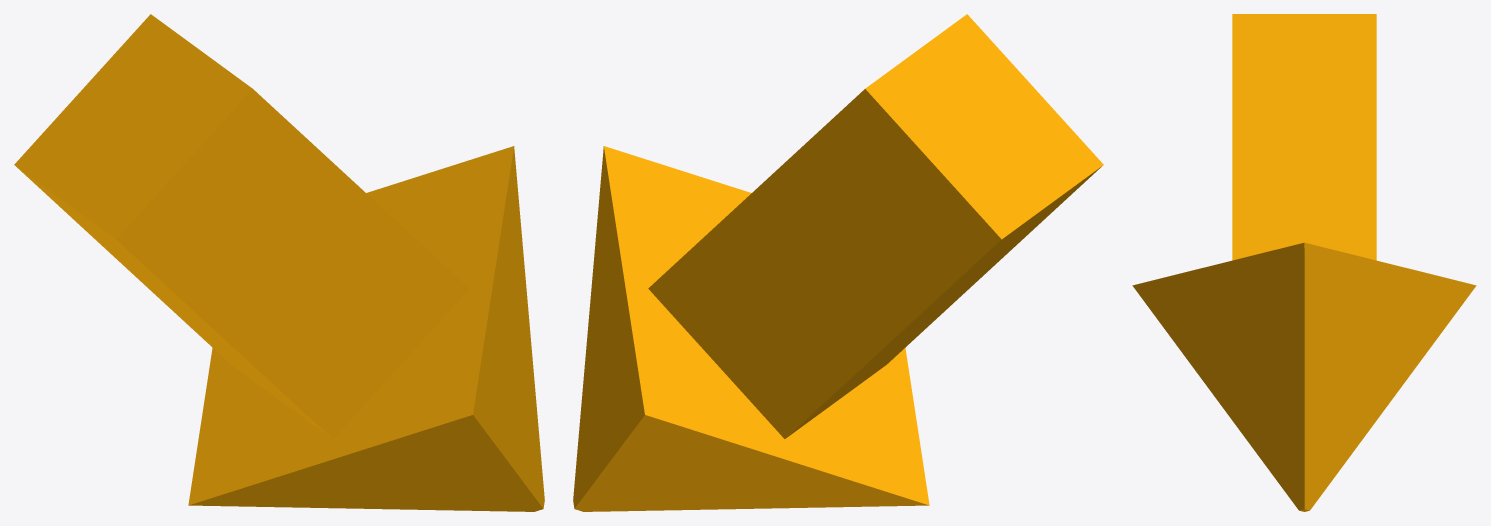
File: Extra_Hint.fbx
3 views of the same model, side by side, from view 1: azimuth 30°, elevation 25°; view 2: azimuth 150°, elevation 25°; view 3: azimuth 270°, elevation 25° (orthographic). The views are drawn at different scales.
Parts seen in each view (by area): view 1: Hint; view 2: Hint; view 3: Hint.
Boxes of the visible parts, x1,y1,x2,y2 form: Hint: (14,14,544,511); Hint: (573,14,1103,511); Hint: (1132,14,1476,511).
Bounding box in the file's own units: 0.3485 × 0.3965 × 0.4279.
